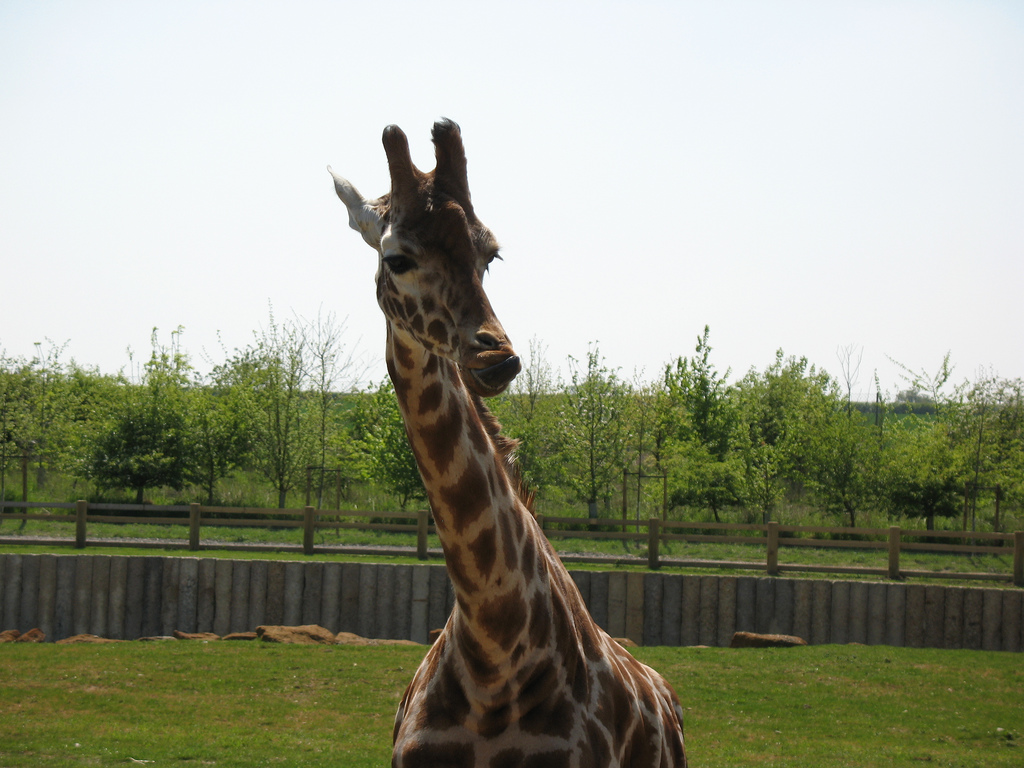giraffe: (313, 124, 712, 764)
